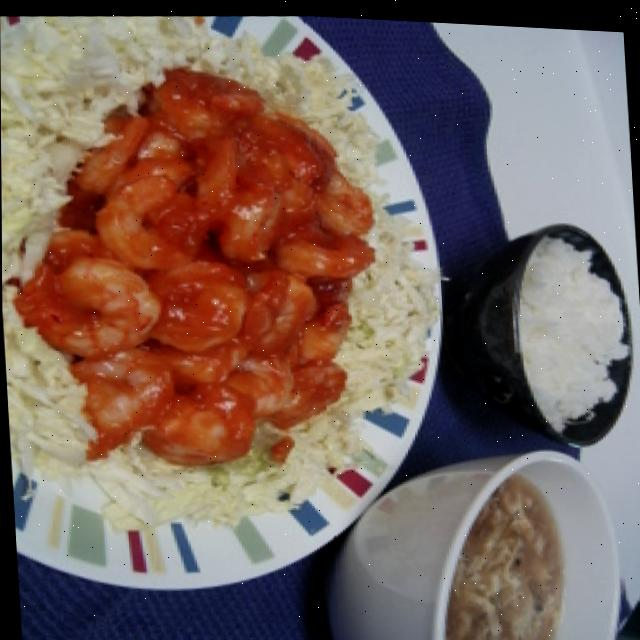熟制海鲜: (0, 0, 463, 610)
